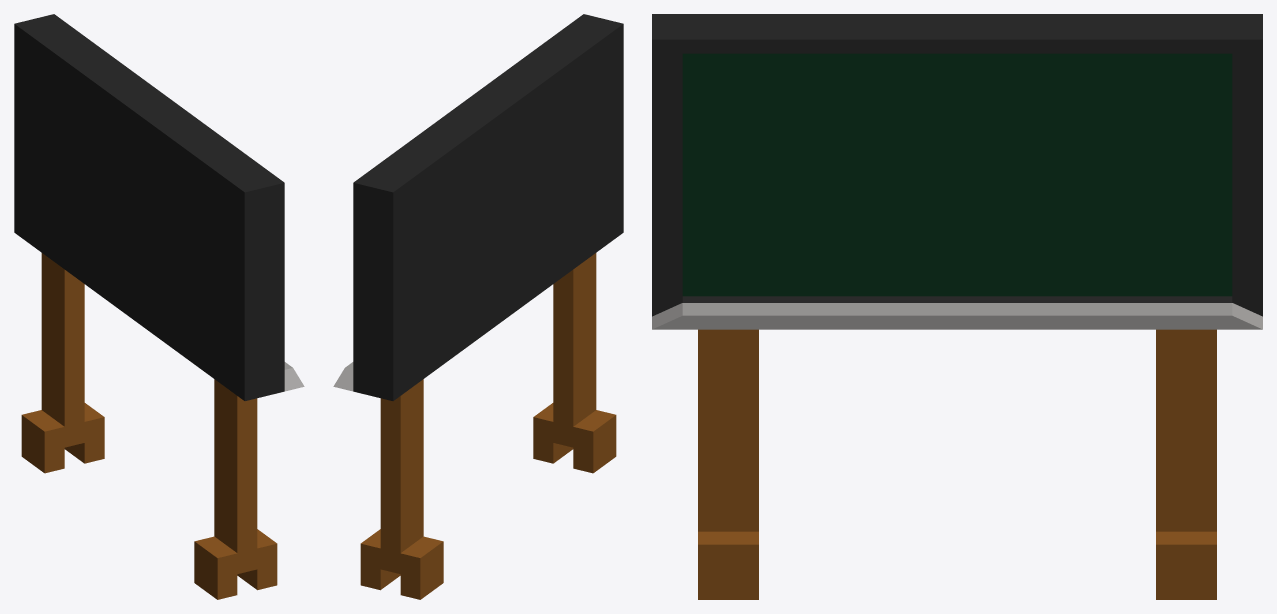
Rendered from chalkBoard.fbx.
3 renders of one model, left to right at view 1: azimuth 30°, elevation 25°; view 2: azimuth 150°, elevation 25°; view 3: azimuth 270°, elevation 25°, orthographic. The views are drawn at different scales.
Visible parts, largest first — view 1: Cube.002, Cube, Cube.001; view 2: Cube.002, Cube.001, Cube; view 3: Cube.002, Cube, Cube.001.
Part boxes in pixels (x1=…): Cube.002: x1=14, y1=14, x2=304, y2=400; Cube: x1=194, y1=379, x2=277, y2=599; Cube.001: x1=21, y1=253, x2=104, y2=473; Cube.002: x1=333, y1=14, x2=623, y2=400; Cube.001: x1=360, y1=379, x2=443, y2=599; Cube: x1=533, y1=253, x2=616, y2=473; Cube.002: x1=652, y1=14, x2=1262, y2=329; Cube: x1=698, y1=329, x2=758, y2=599; Cube.001: x1=1156, y1=329, x2=1216, y2=599.
Bounding box in the file's own units: 70 × 400 × 400.
